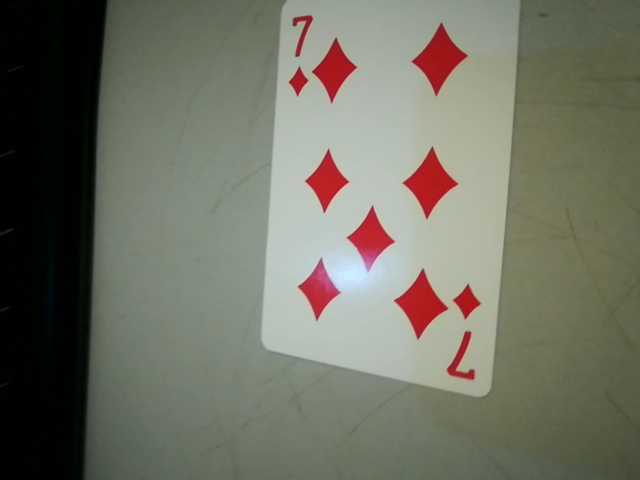fk 7: (441, 277, 490, 390)
